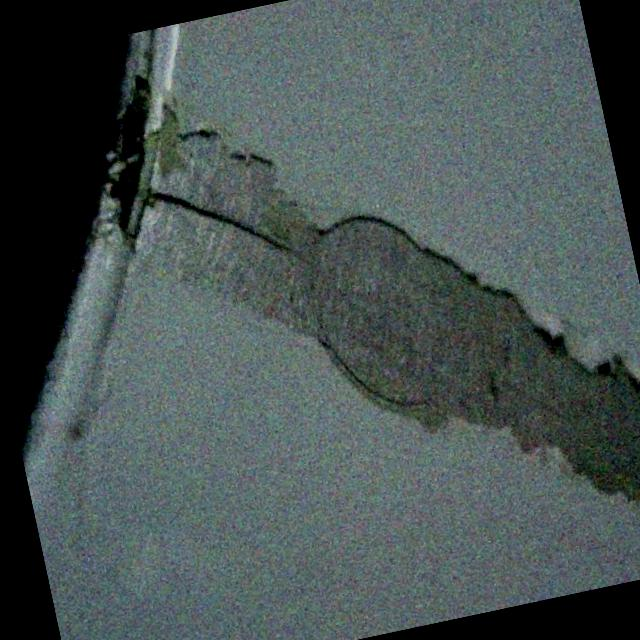crack: (140, 173, 229, 241), (240, 216, 308, 268)
